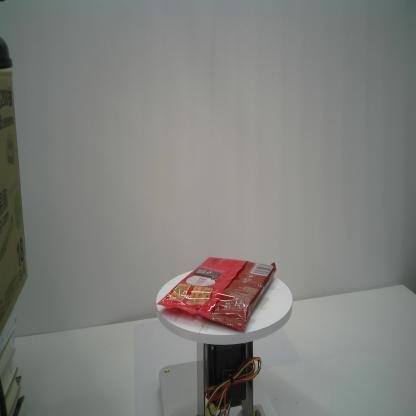Dessert: (154, 256, 277, 333)
